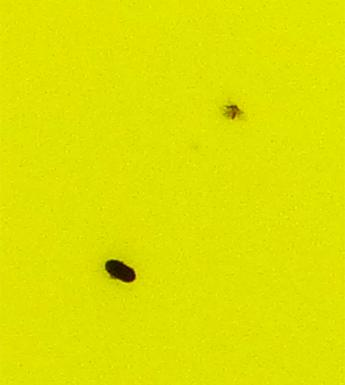Coleoptera: (100, 256, 139, 285)
Nematocera: (220, 100, 245, 122)
